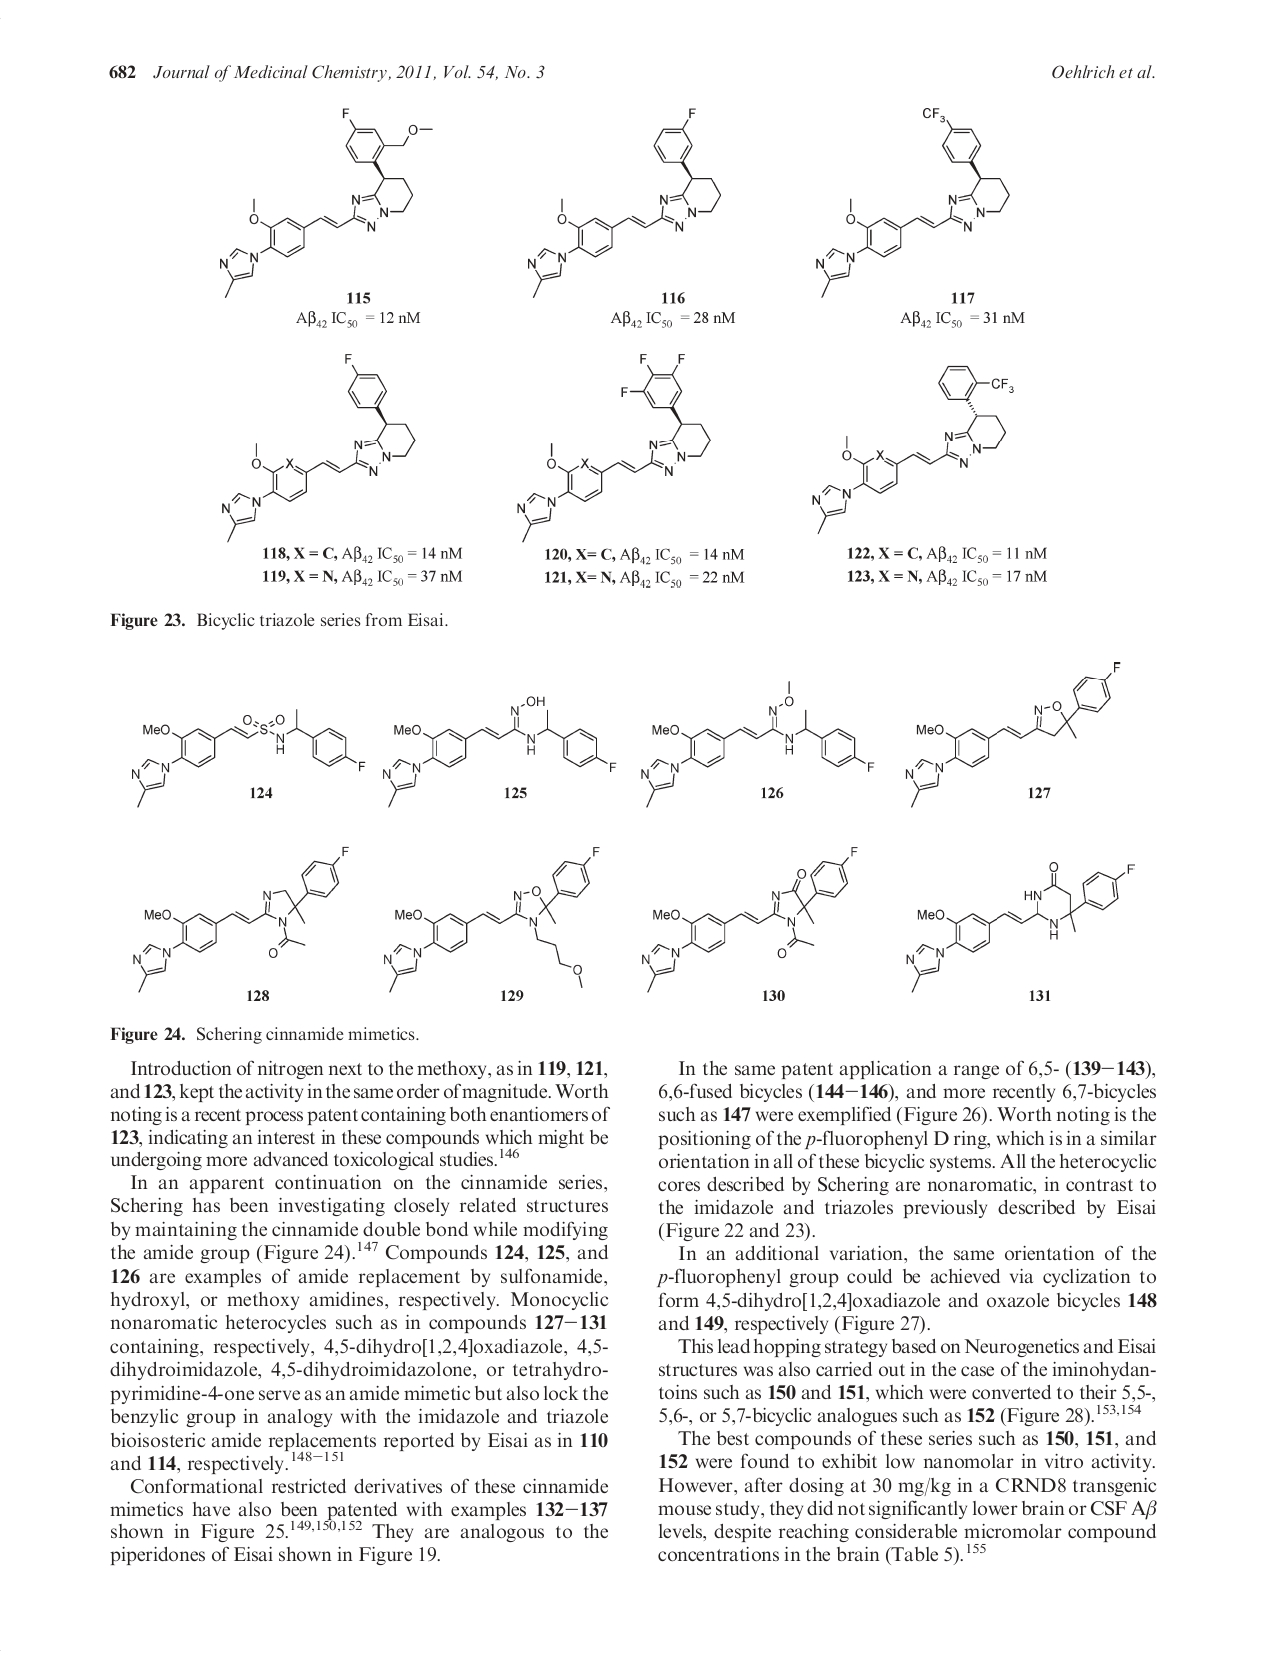exist_molecular: (211, 102, 436, 298), (521, 105, 727, 298), (809, 101, 1009, 298), (512, 348, 714, 543), (219, 350, 422, 543), (807, 360, 1017, 539), (898, 657, 1121, 810), (128, 842, 350, 993), (637, 843, 860, 993), (382, 844, 605, 993), (899, 858, 1137, 995), (637, 678, 879, 807), (379, 693, 621, 809), (126, 707, 368, 809)
